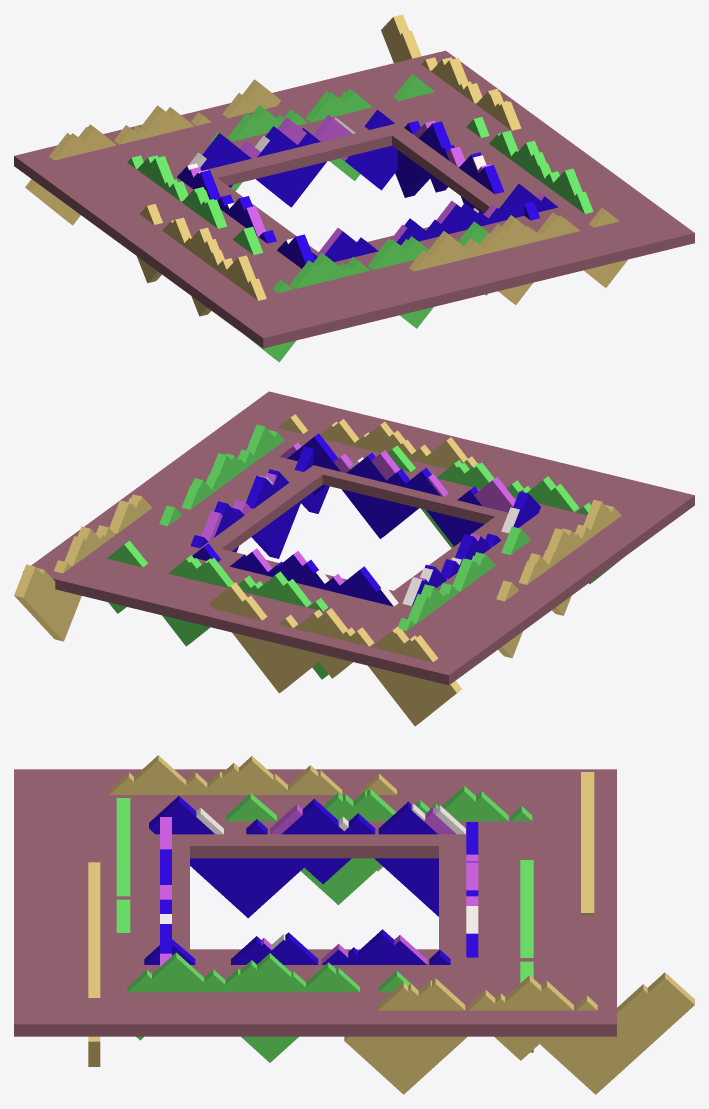
Rendered from monti.fbx.
The picture shows the model from 3 angles, top to bottom: view 1: azimuth 30°, elevation 25°; view 2: azimuth 150°, elevation 25°; view 3: azimuth 270°, elevation 25°; orthographic projection. The views are drawn at different scales.
Parts seen in each view (by area): view 1: monti; view 2: monti; view 3: monti.
Boxes of the visible parts, x1=… form: monti: x1=14, y1=14, x2=694, y2=362; monti: x1=14, y1=391, x2=694, y2=726; monti: x1=14, y1=755, x2=694, y2=1094.
Size of the model in its own units: 38607 by 8420 by 43596.
